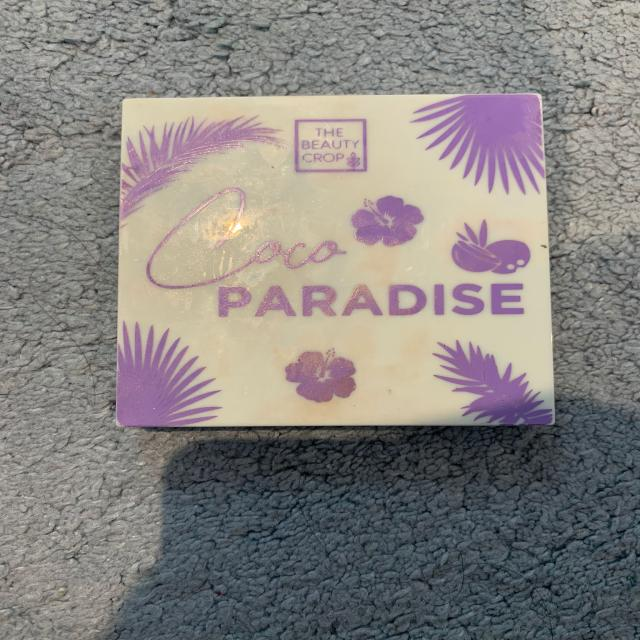powder: (115, 91, 557, 452)
